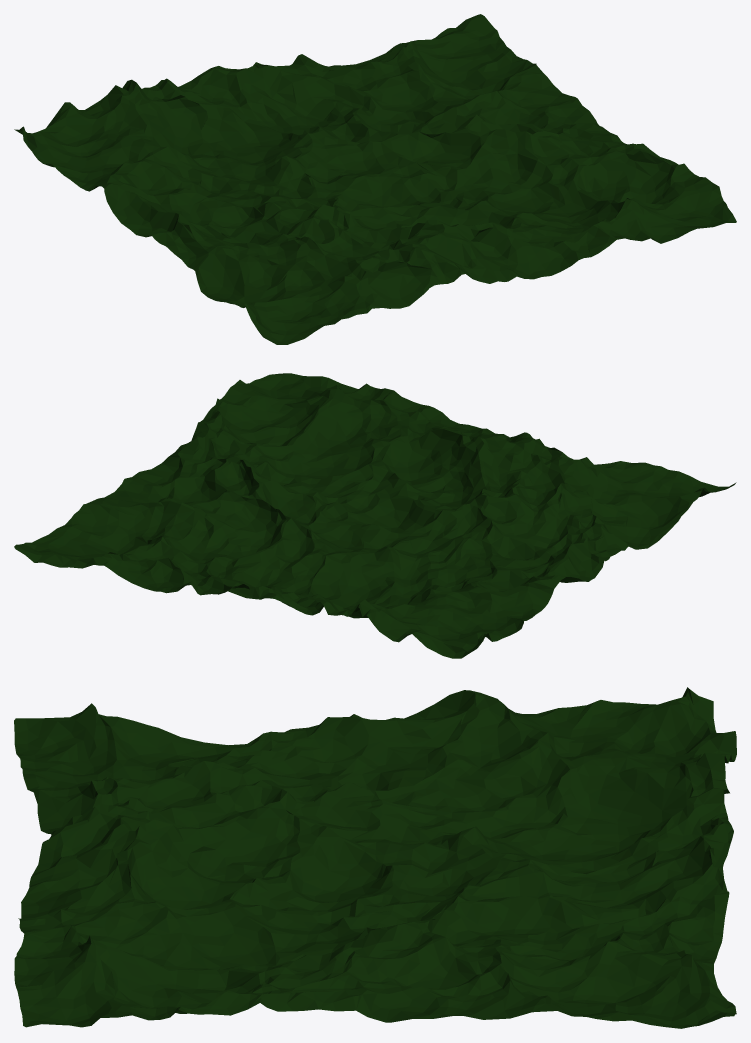
Rendered from mars.obj.
The picture shows the model from 3 angles, top to bottom: view 1: azimuth 30°, elevation 25°; view 2: azimuth 150°, elevation 25°; view 3: azimuth 270°, elevation 25°; orthographic projection. The views are drawn at different scales.
Visible parts, largest first — view 1: mars; view 2: mars; view 3: mars.
Part boxes in pixels (box(x1,y1,x2,y2)): mars: box(14, 14, 736, 344); mars: box(14, 373, 736, 658); mars: box(14, 687, 736, 1028).
Bounding box in the file's own units: 2826 × 295 × 2737.
